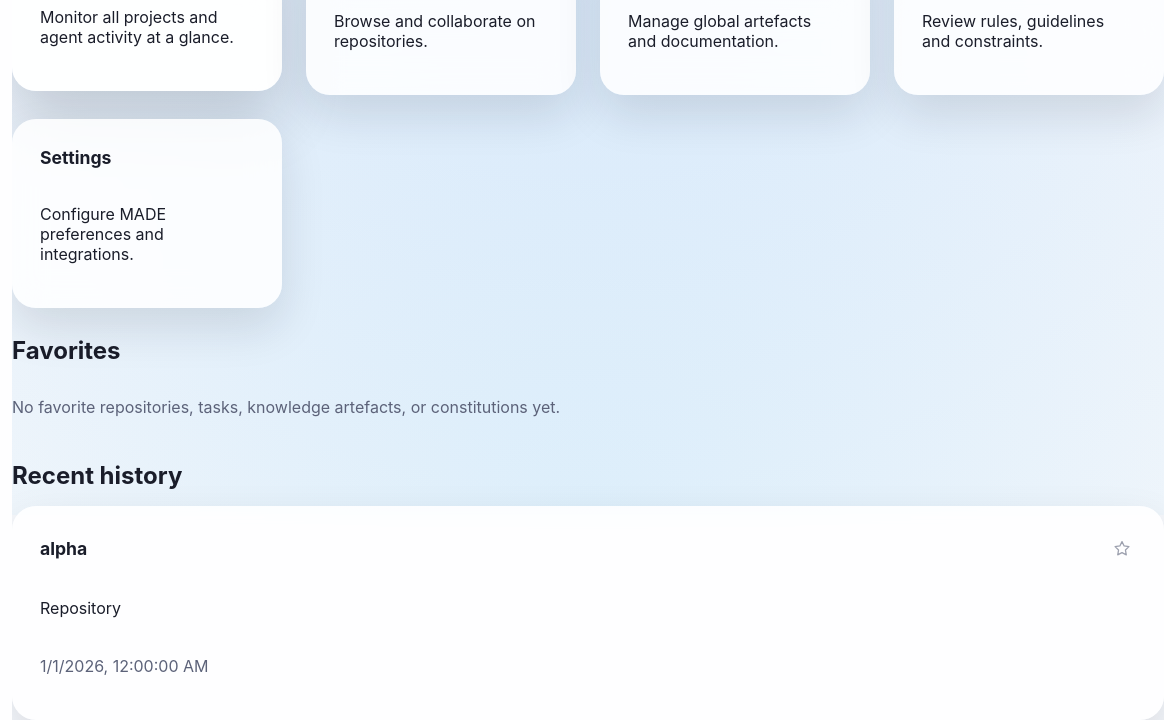
Test: HomePage favorites › adds and removes history items from favorites
The image size is (1164, 720).
(page scrolled)
Expected: the text "No favorite repositories, tasks, knowledge artefacts, or constitutions yet." is shown, [12, 397, 560, 417]
Click the button named "Add alpha to favorites": (1122,548) [1108, 534, 1136, 562]
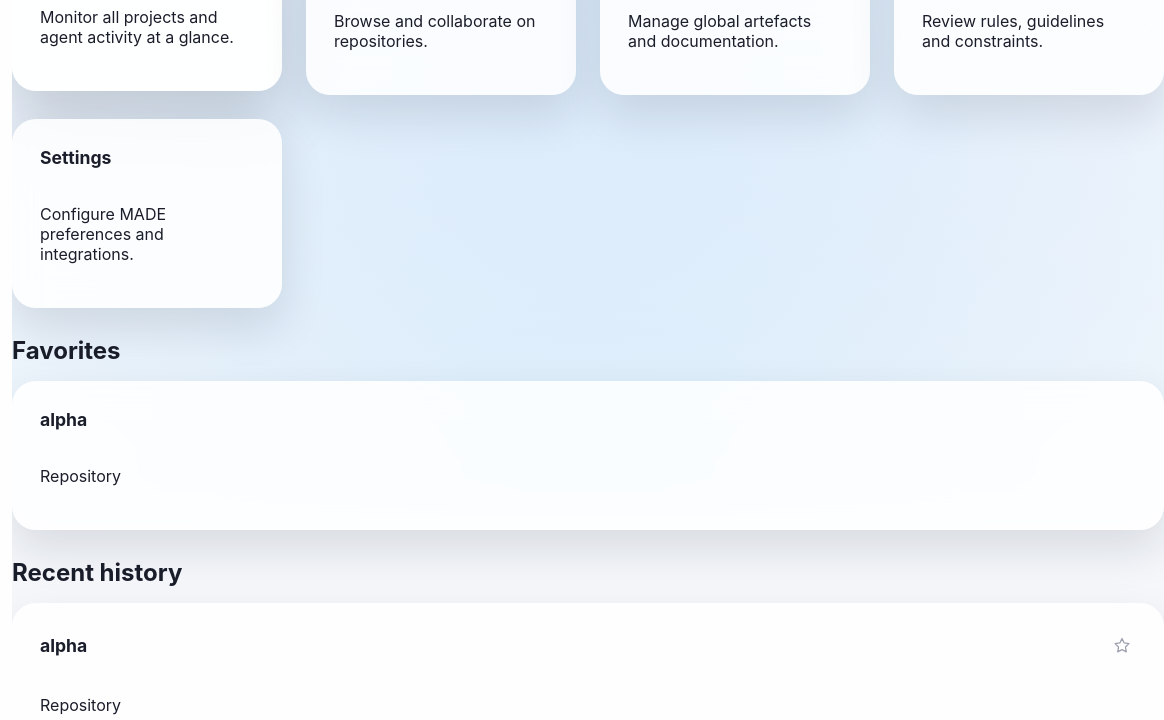
Expected: the element "Favorites" is shown, [12, 336, 1163, 530]
Click the button named "Remove alpha from favorites": (1122,645) [1108, 631, 1136, 659]
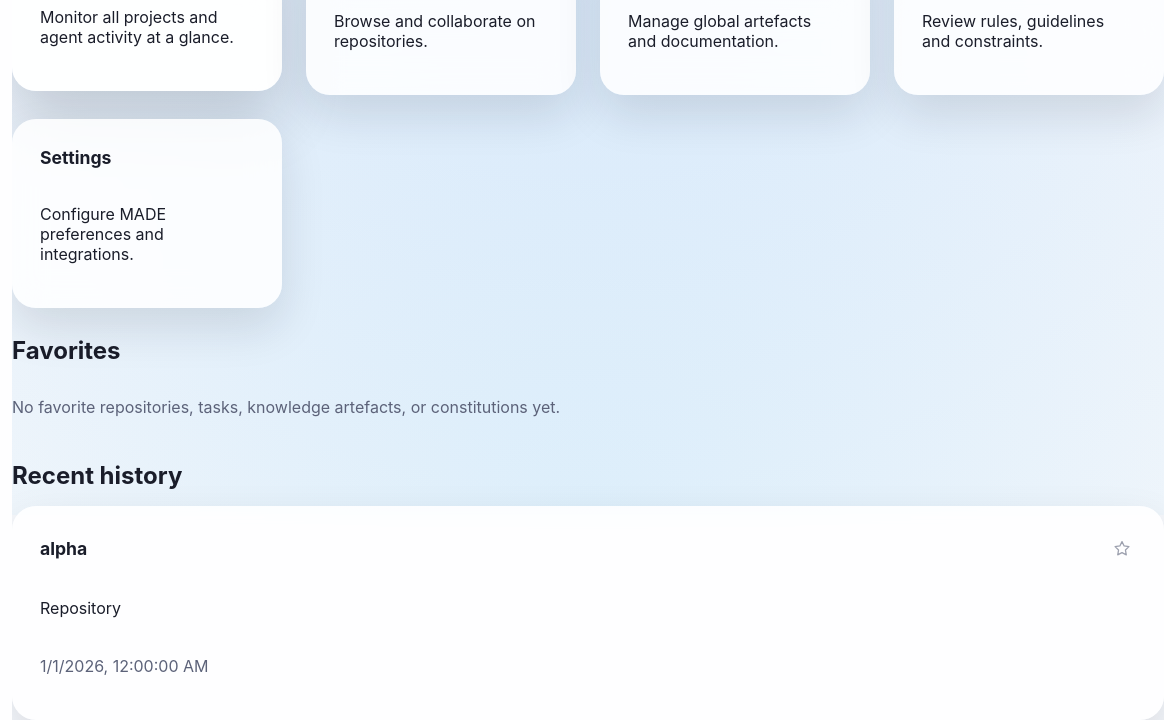
Now the text "No favorite repositories, tasks, knowledge artefacts, or constitutions yet." is shown, box [12, 397, 560, 417]
